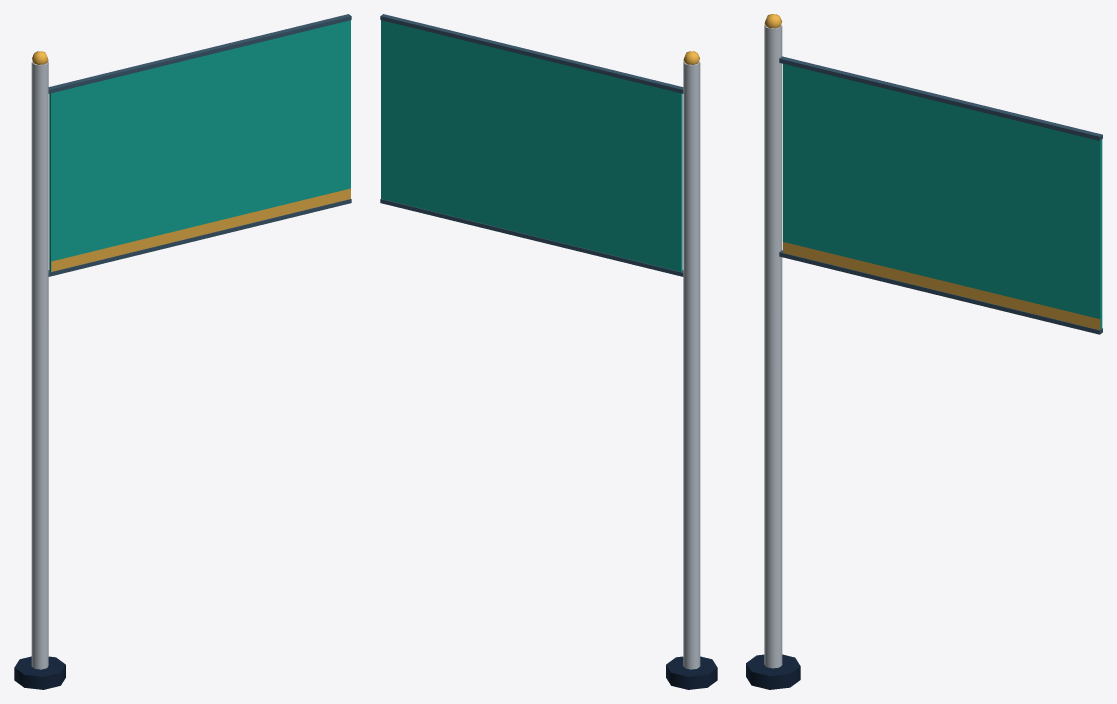
Rendered from CM_Prop_PlotBanner.fbx.
The picture shows the model from 3 angles, left to right: view 1: azimuth 30°, elevation 25°; view 2: azimuth 150°, elevation 25°; view 3: azimuth 330°, elevation 25°; orthographic projection. The views are drawn at different scales.
Visible parts, largest first — view 1: Flag, Pole; view 2: Flag, Pole; view 3: Flag, Pole.
Part boxes in pixels (<box>): Flag: <box>49,20,350,271</box>; Pole: <box>14,14,351,689</box>; Flag: <box>381,20,682,271</box>; Pole: <box>380,14,717,689</box>; Flag: <box>783,64,1102,329</box>; Pole: <box>746,14,1102,689</box>.
Bounding box in the file's own units: 13.23 × 1.66 × 24.
1 material, 1 textured.
